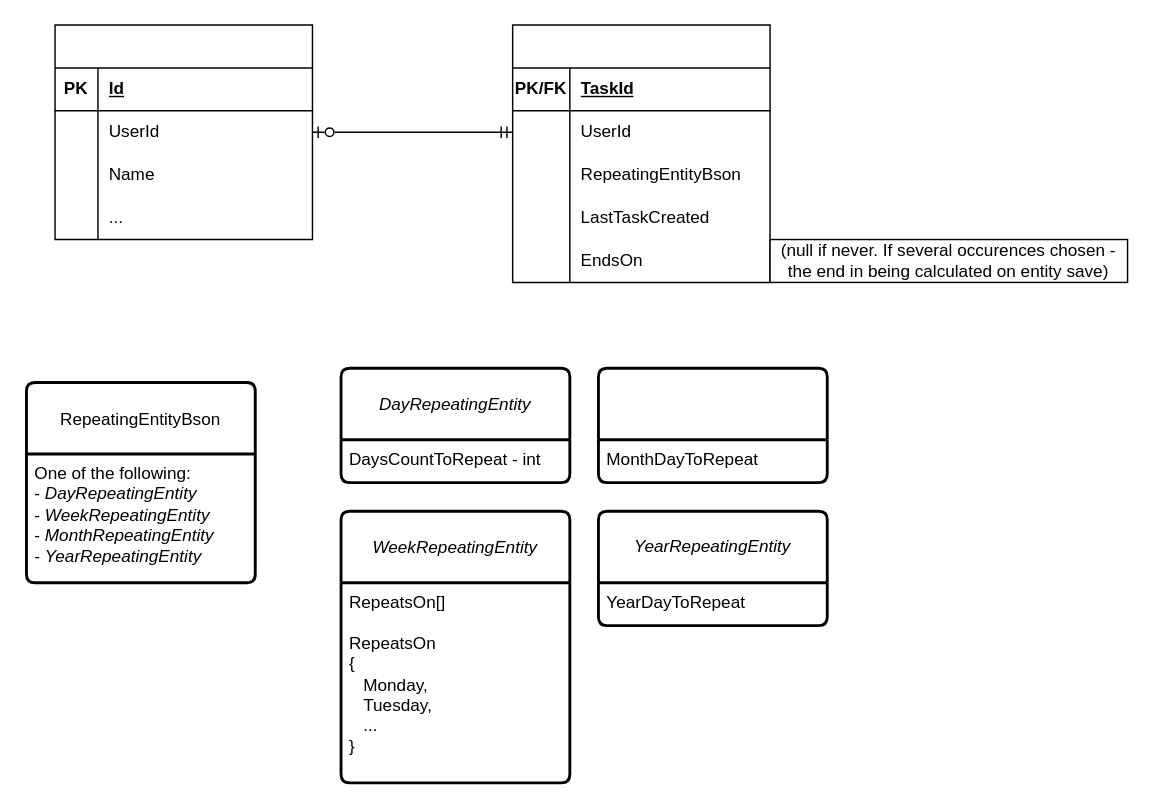
Image size: 1153x809. Some labels were removed from this diagram. The box of each missing label's shape, as (x1, y1, x2, y2) in pixels:
ITask: (54, 24, 312, 240)
MonthRepeatingEntity: (596, 366, 828, 483)
TaskSchedule: (511, 24, 770, 282)
